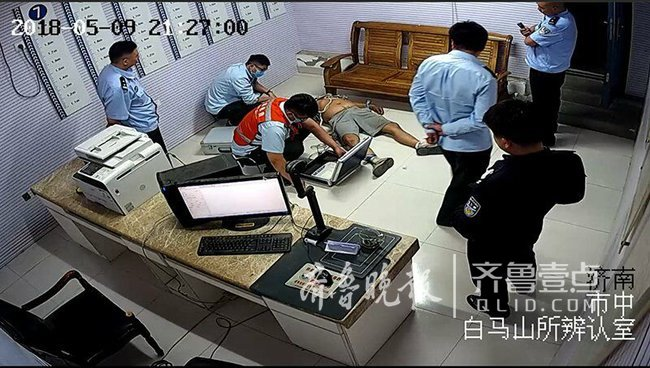fall: (299, 83, 436, 162)
